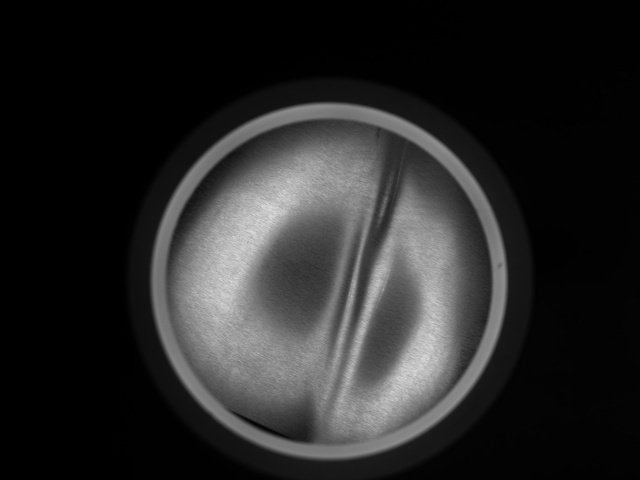zhe_zhou: (219, 138, 438, 419)
